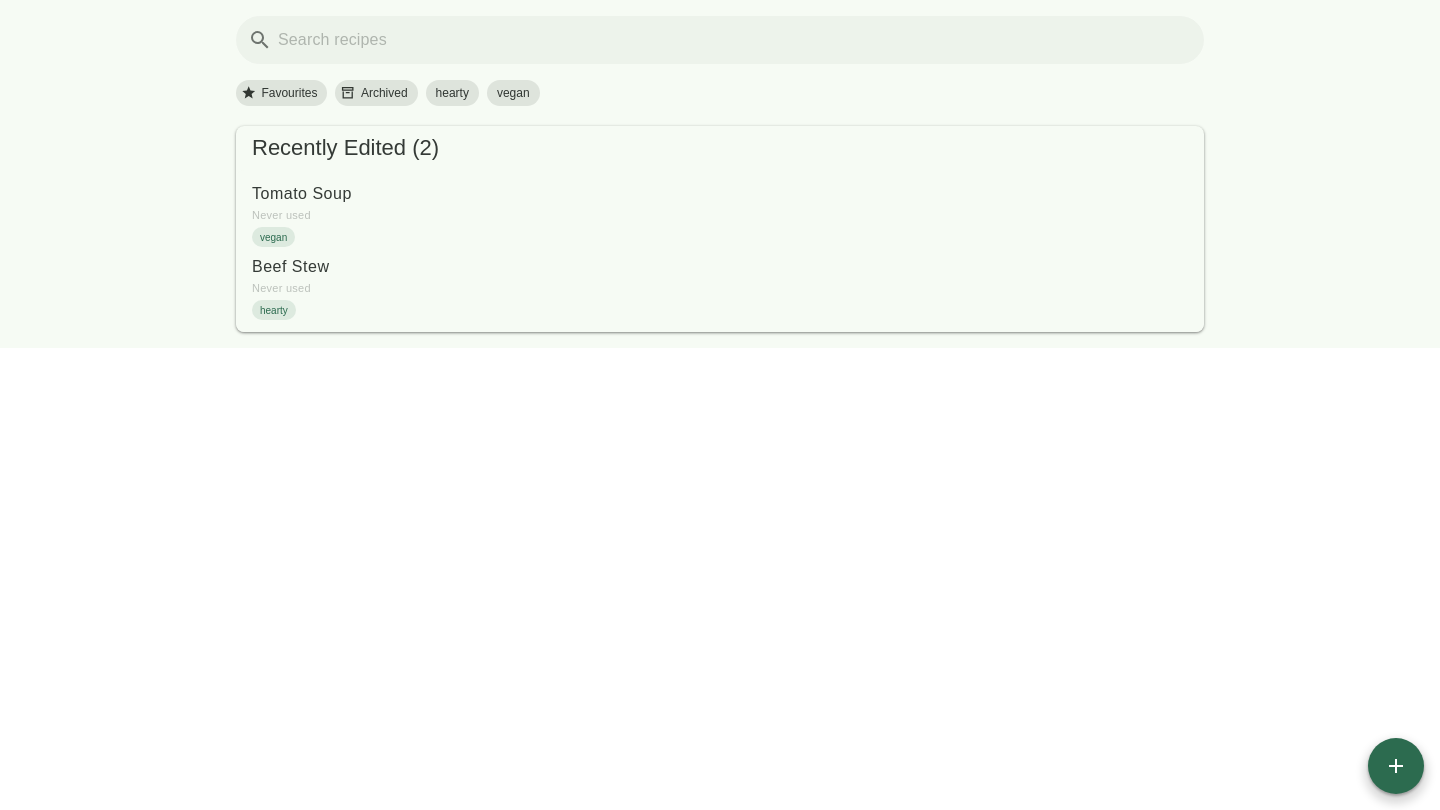
Test: RecipesView search filtering › filters recipes by label and shows label chips
The width and height of the screenshot is (1440, 810).
Expected: the element showing "vegan" is shown, [252,227,295,247]
In the field with placeholder "Search recipes": (732, 40) [272,16,1192,64], type "hearty"
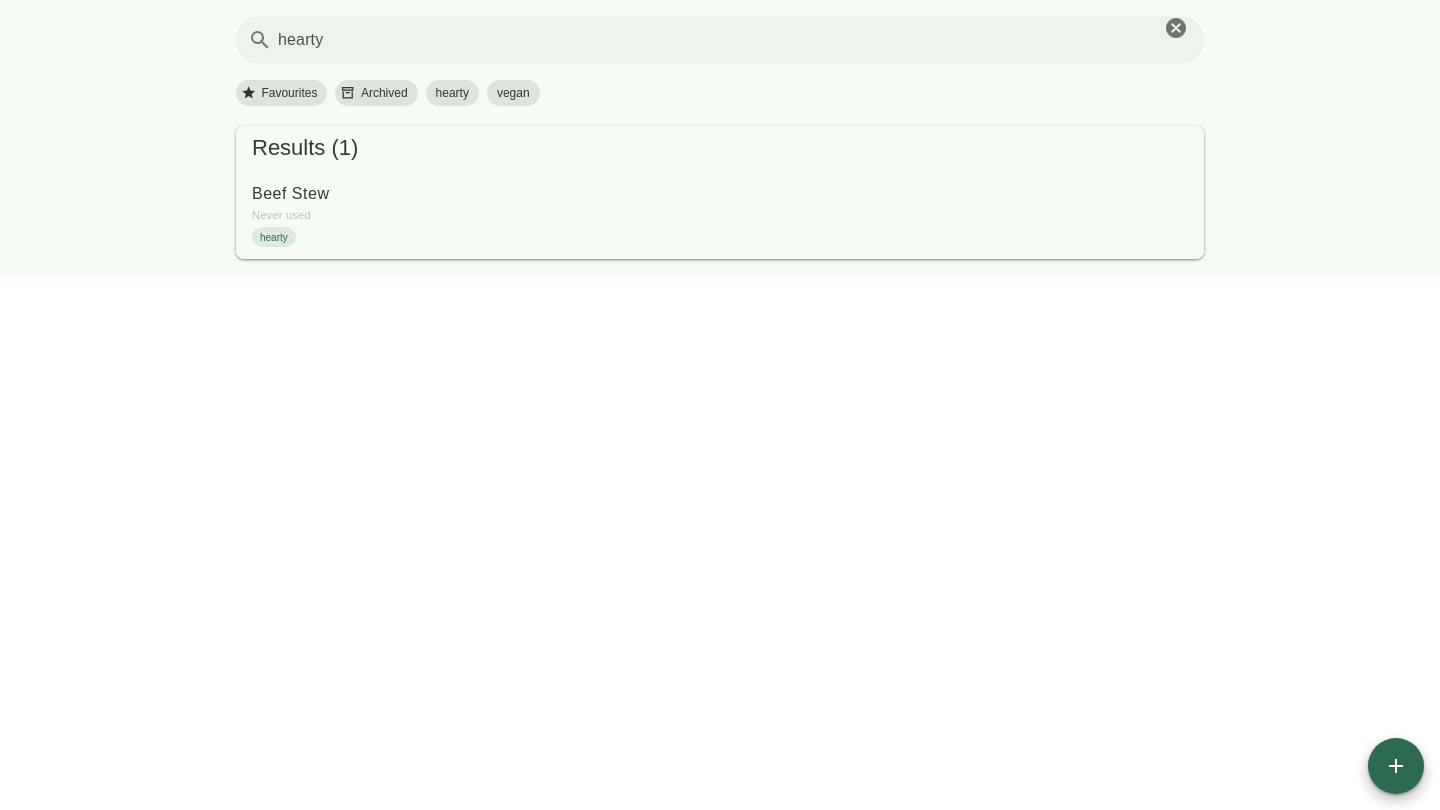
Expected: the list item "Beef Stew Never used hearty" is shown, [252,185,329,247]
Expected: the number of list items is 1, [252,185,329,247]
